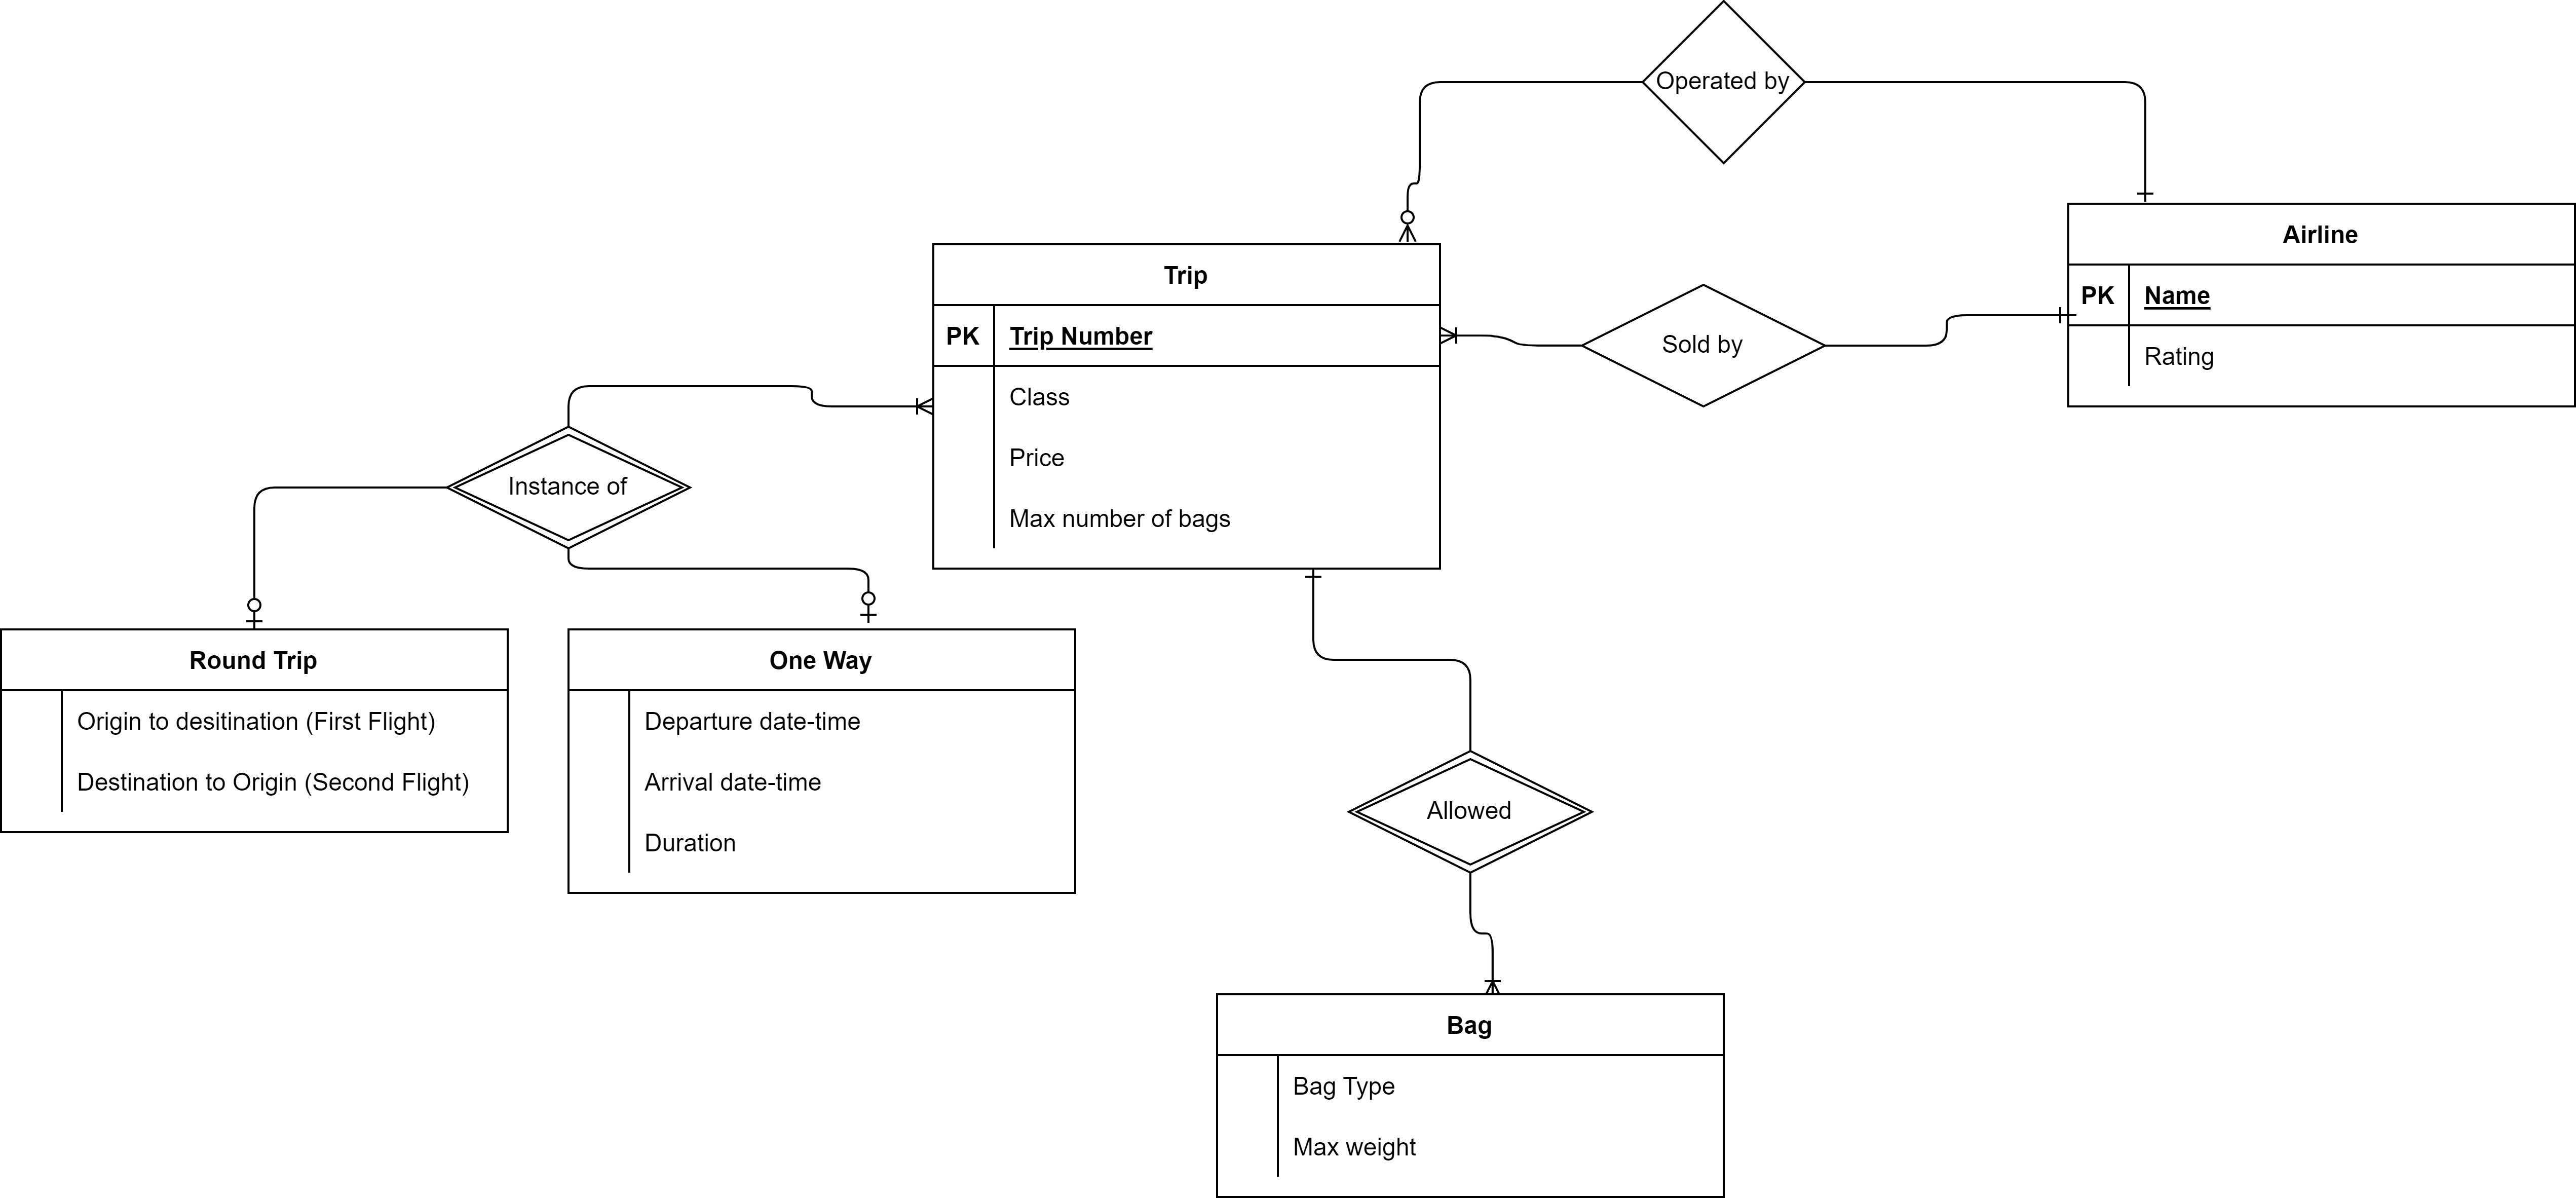entity: (935, 245, 1441, 572), (567, 629, 1076, 891), (2070, 200, 2576, 409), (1217, 994, 1725, 1198), (3, 629, 508, 830)
ident_rel: (1347, 749, 1594, 874), (447, 429, 695, 551)
many: (813, 396, 935, 422), (1482, 933, 1505, 999), (1438, 325, 1497, 348), (1396, 186, 1419, 243)
one: (240, 505, 266, 634), (1947, 304, 2068, 327), (2136, 85, 2154, 214), (1303, 570, 1326, 656), (853, 572, 879, 629)
rel: (1579, 283, 1820, 412), (1644, 0, 1807, 163)
